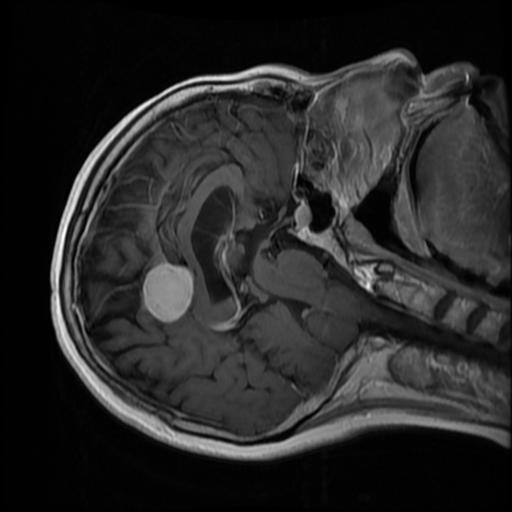meningioma: (142, 264, 194, 323)
